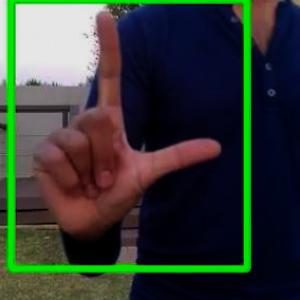land_hand: (22, 0, 236, 253)
